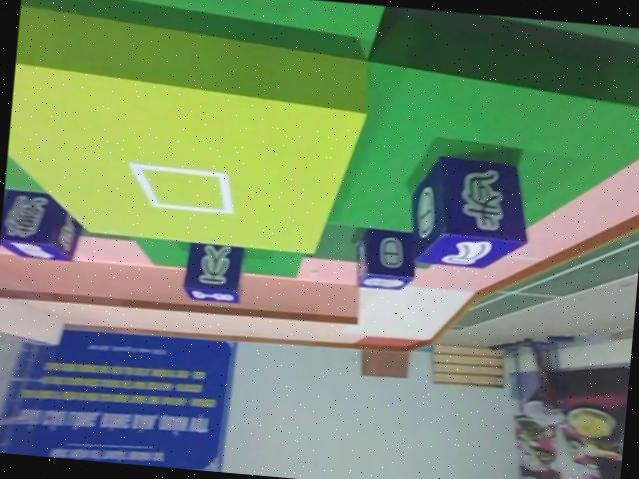R2 Fake Blue: (407, 151, 537, 272), (0, 187, 82, 263), (352, 225, 418, 291), (181, 239, 246, 303)
